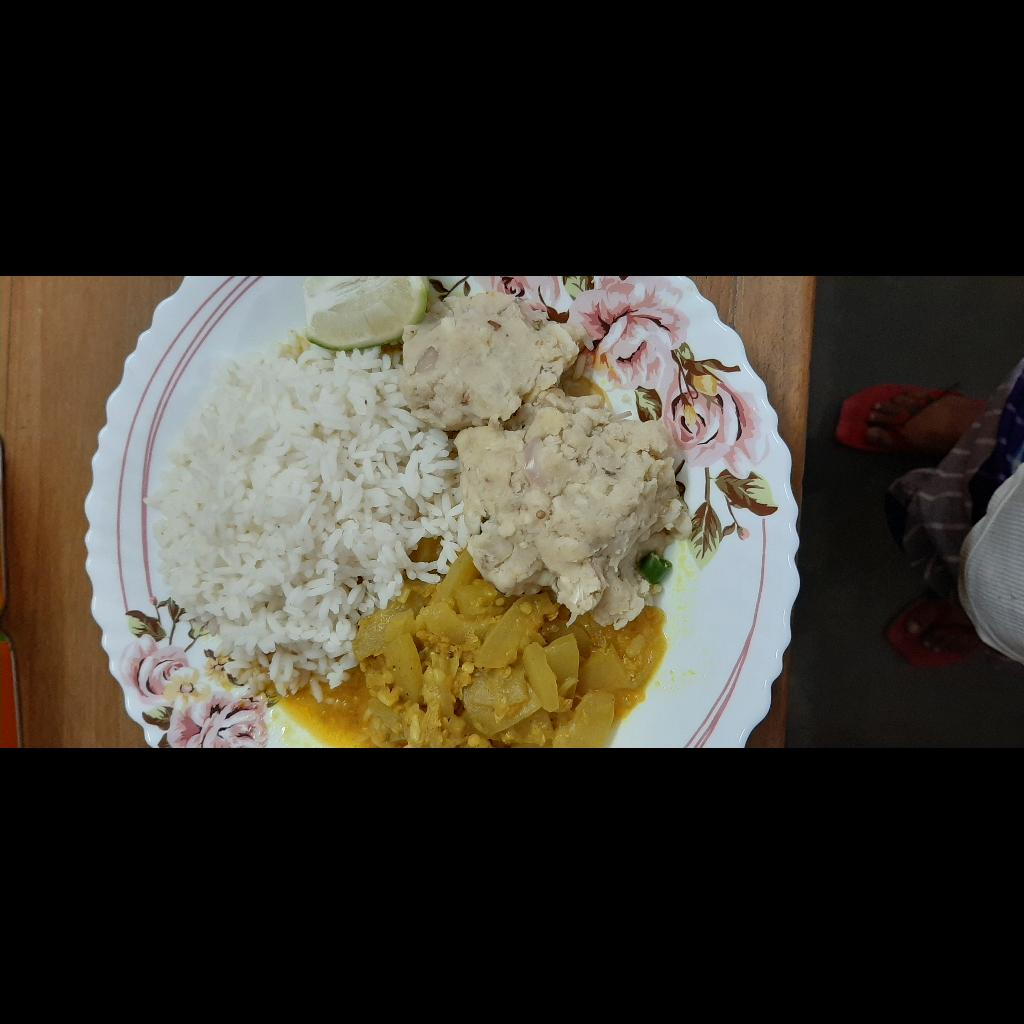banana: (124, 678, 456, 968)
daal: (0, 554, 83, 648)
lau: (0, 630, 201, 940)
lemon: (393, 578, 472, 703)
rice: (42, 419, 415, 740)
